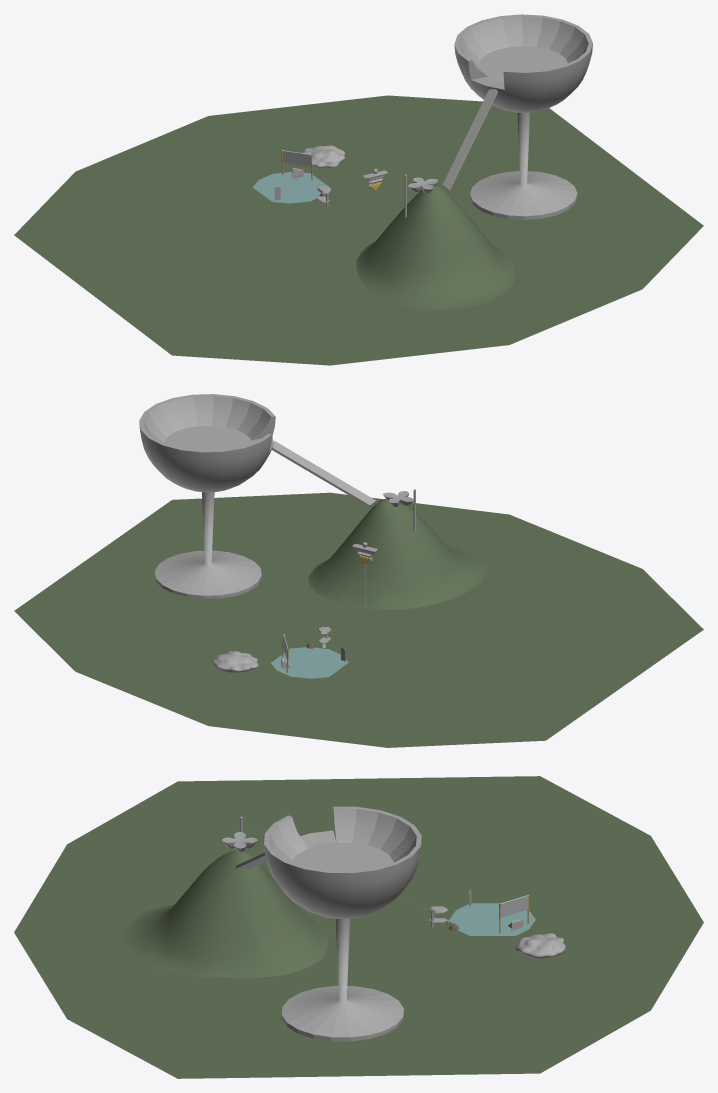
File: outsideworld.fbx
3 renders of one model, top to bottom at view 1: azimuth 30°, elevation 25°; view 2: azimuth 150°, elevation 25°; view 3: azimuth 270°, elevation 25°, orthographic. The views are drawn at different scales.
Parts seen in each view (by area): view 1: grass, pSphere1, mountain, pond, pCube39, cloud2; view 2: grass, pSphere1, mountain, pond, pCube39, cloud2; view 3: grass, pSphere1, mountain, pond, cloud2.
Boxes of the visible parts, x1=… form: grass: x1=14, y1=95, x2=703, y2=365; pSphere1: x1=454, y1=14, x2=592, y2=219; mountain: x1=356, y1=184, x2=515, y2=310; pond: x1=253, y1=172, x2=330, y2=203; pCube39: x1=442, y1=89, x2=497, y2=191; cloud2: x1=302, y1=145, x2=345, y2=167; grass: x1=14, y1=492, x2=703, y2=747; pSphere1: x1=139, y1=394, x2=275, y2=598; mountain: x1=308, y1=498, x2=487, y2=610; pond: x1=271, y1=647, x2=348, y2=678; pCube39: x1=272, y1=441, x2=375, y2=507; cloud2: x1=212, y1=651, x2=258, y2=672; grass: x1=14, y1=776, x2=703, y2=1078; pSphere1: x1=264, y1=806, x2=421, y2=1041; mountain: x1=120, y1=850, x2=327, y2=978; pond: x1=449, y1=903, x2=535, y2=935; cloud2: x1=515, y1=933, x2=565, y2=958.
Bounding box in the file's own units: 1646 × 492 × 1614.
